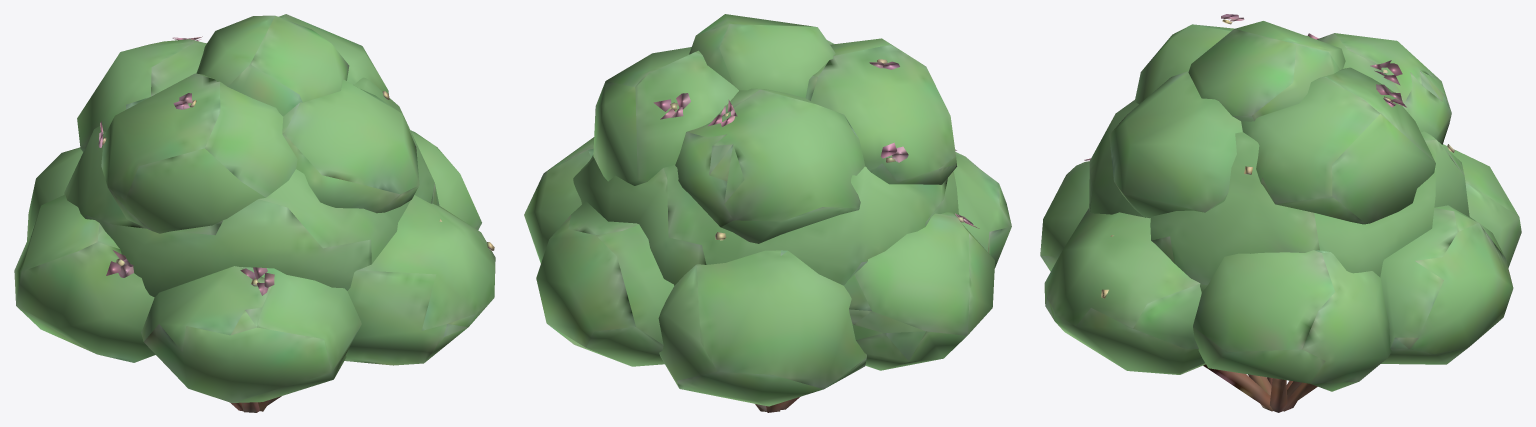
Rendered from bush.glb.
3 views of the same model, side by side, from view 1: azimuth 30°, elevation 25°; view 2: azimuth 150°, elevation 25°; view 3: azimuth 270°, elevation 25° (orthographic).
Visible parts, largest first — view 1: bush_body; view 2: bush_body; view 3: bush_body.
Part boxes in pixels (x1,y1,x2,y2): bush_body: (14,14,495,412); bush_body: (524,14,1011,412); bush_body: (1040,14,1521,412).
Size of the model in its own units: 1.32 by 1.09 by 1.26.
Materials: 1 (1 with a texture image).
